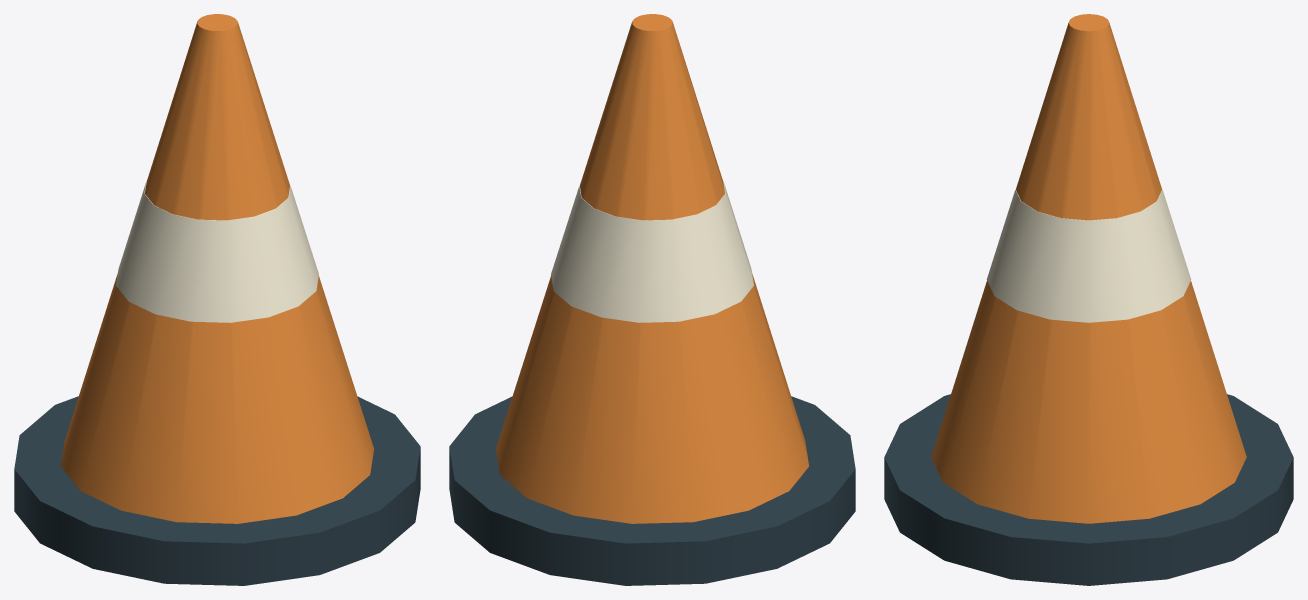
File: TrafficCone.glb
3 renders of one model, left to right at view 1: azimuth 30°, elevation 25°; view 2: azimuth 150°, elevation 25°; view 3: azimuth 270°, elevation 25°, orthographic.
Parts seen in each view (by area): view 1: OrangeCone, RoundBase, WhiteBand; view 2: OrangeCone, RoundBase, WhiteBand; view 3: OrangeCone, RoundBase, WhiteBand.
Part boxes in pixels (x1,y1,x2,y2): OrangeCone: (61, 14, 373, 523); RoundBase: (14, 396, 420, 585); WhiteBand: (116, 181, 318, 322); OrangeCone: (496, 14, 808, 523); RoundBase: (449, 396, 855, 585); WhiteBand: (551, 181, 753, 322); OrangeCone: (931, 14, 1246, 523); RoundBase: (884, 394, 1293, 585); WhiteBand: (986, 187, 1191, 322).
Bounding box in the file's own units: 0.5444 × 0.7 × 0.5444.
